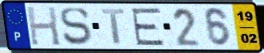2: (171, 7, 203, 47)
6: (204, 7, 233, 48)
E: (130, 7, 167, 47)
H: (25, 5, 62, 47)
S: (59, 6, 93, 46)
T: (100, 8, 127, 46)
